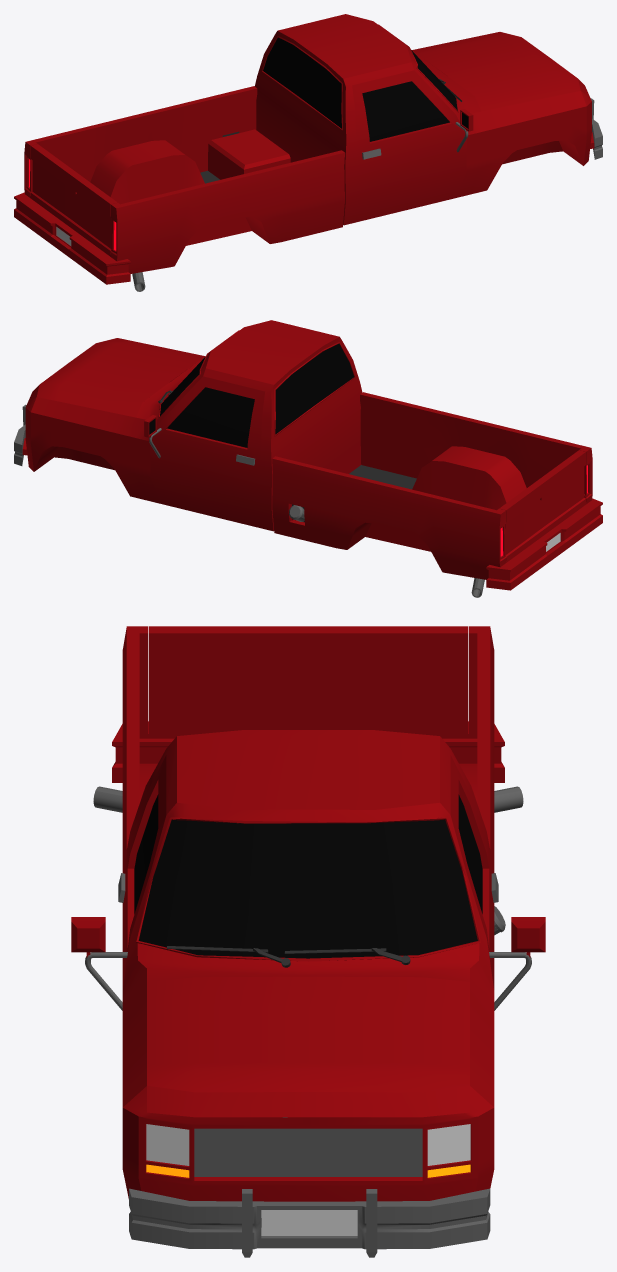
File: Car3.fbx
The picture shows the model from 3 angles, top to bottom: view 1: azimuth 30°, elevation 25°; view 2: azimuth 150°, elevation 25°; view 3: azimuth 270°, elevation 25°; orthographic projection. The views are drawn at different scales.
Visible parts, largest first — view 1: Car3; view 2: Car3; view 3: Car3.
Part boxes in pixels (x1,y1,x2,y2): Car3: (14,14,602,291); Car3: (14,320,602,597); Car3: (71,626,545,1257).
Bounding box in the file's own units: 489 × 137 × 194.
